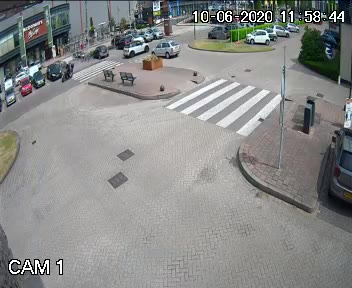car: (118, 37, 151, 58), (149, 39, 180, 59)
